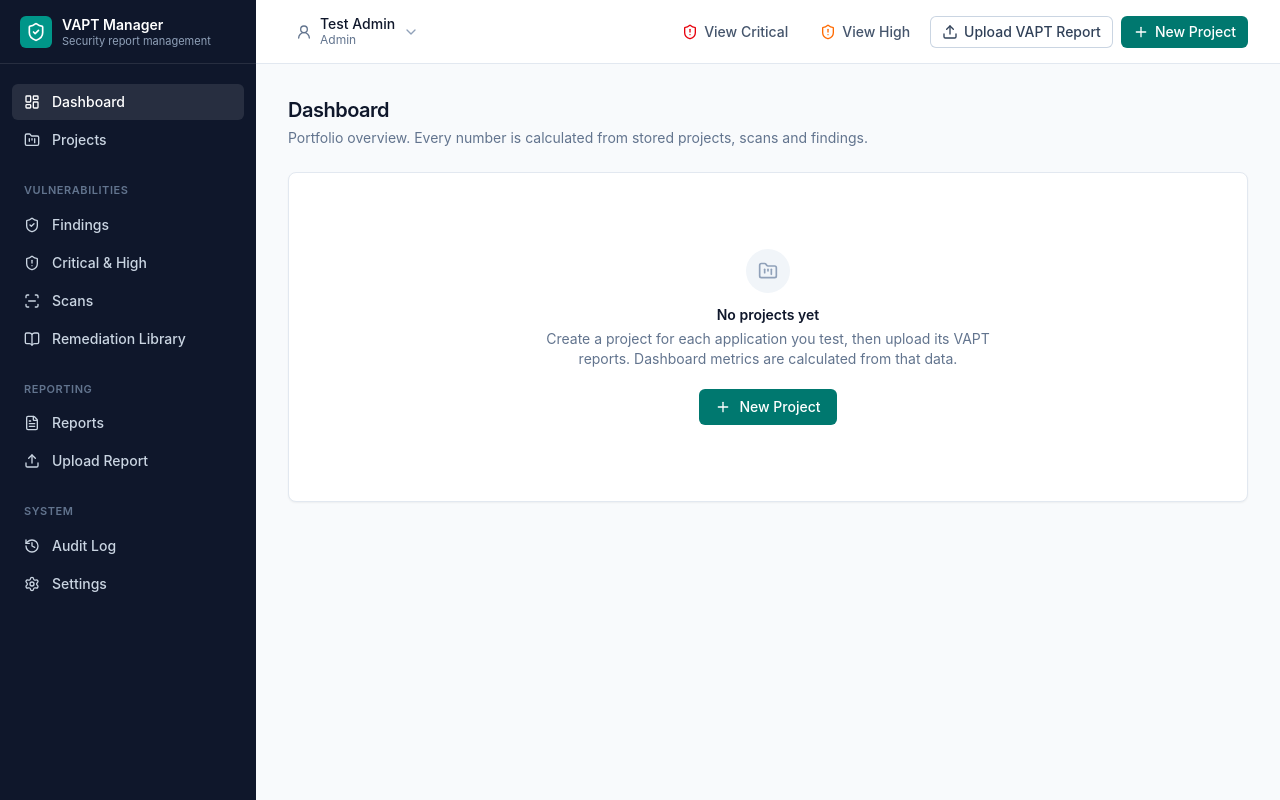
Scenario: navigation › quick action "New Project" opens the create form
Click the link "New Project" next to "Upload VAPT Report". click: click(1184, 32)
box: [1121, 16, 1248, 48]
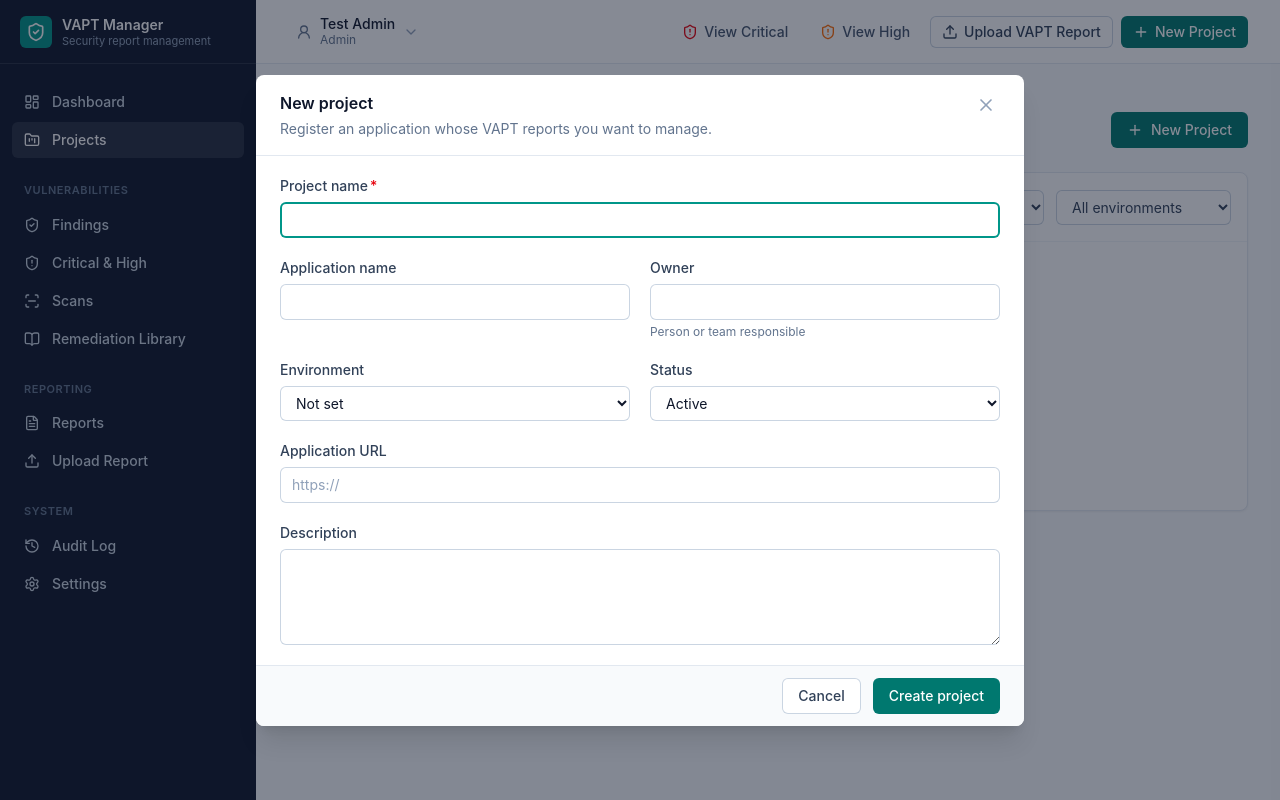
Now the dialog "New project" is shown, box [256, 74, 1024, 726]
